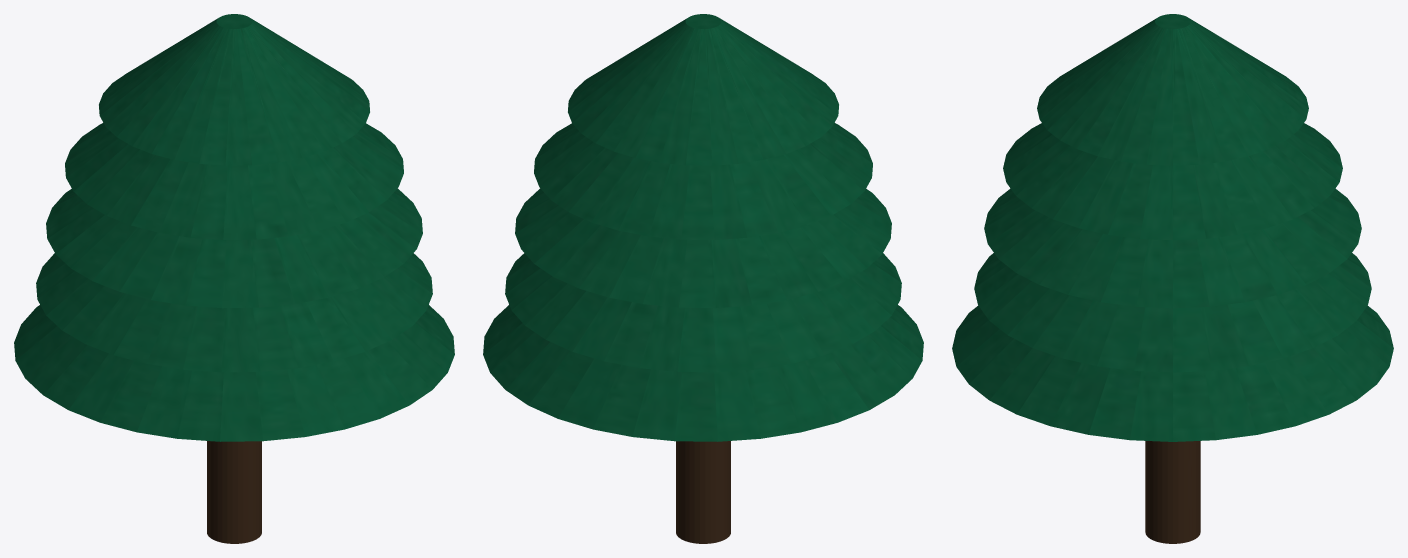
The model's file is tree.obj.
3 renders of one model, left to right at view 1: azimuth 30°, elevation 25°; view 2: azimuth 150°, elevation 25°; view 3: azimuth 270°, elevation 25°, orthographic.
Visible parts, largest first — view 1: Cone.004_Cone.005; view 2: Cone.004_Cone.005; view 3: Cone.004_Cone.005.
Part boxes in pixels (box(x1,y1,x2,y2)): Cone.004_Cone.005: box(14, 14, 454, 543); Cone.004_Cone.005: box(483, 14, 923, 543); Cone.004_Cone.005: box(952, 14, 1393, 543).
Bounding box in the file's own units: 2 × 2.55 × 2.
1 material, 1 textured.
